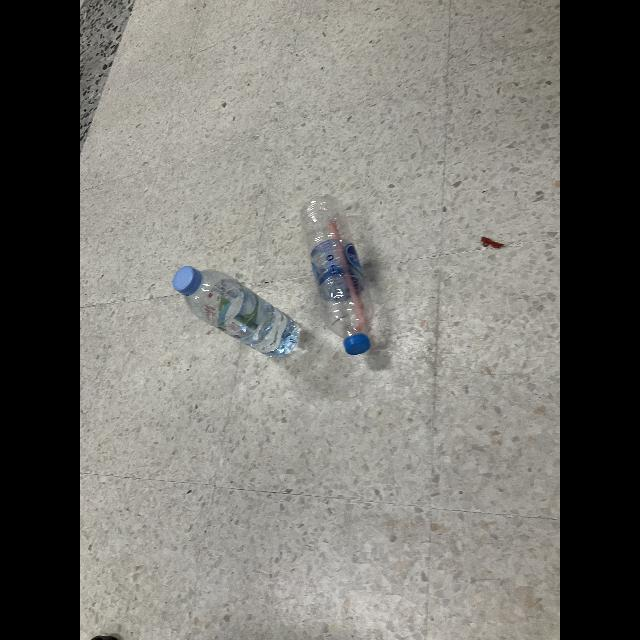plastic_bottle: (174, 266, 312, 366), (301, 195, 377, 358)
plastic_bottle_cap: (174, 266, 202, 296), (345, 334, 369, 354)
straw: (329, 218, 366, 332)
